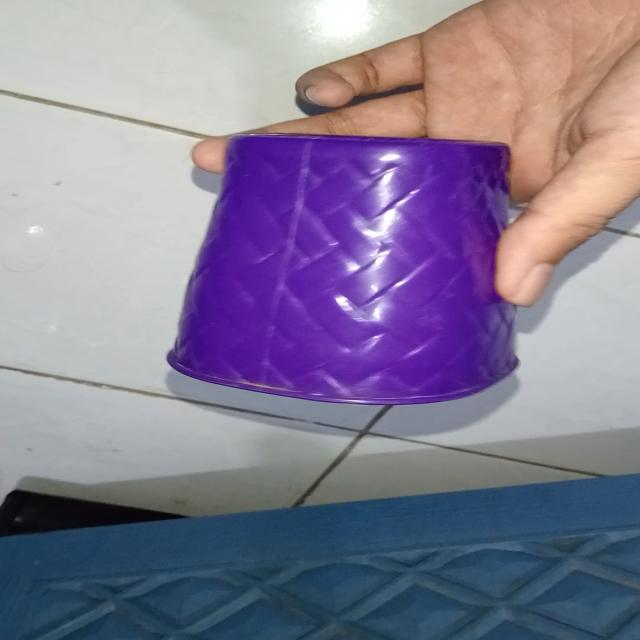gelas bekas: (165, 132, 523, 408)
